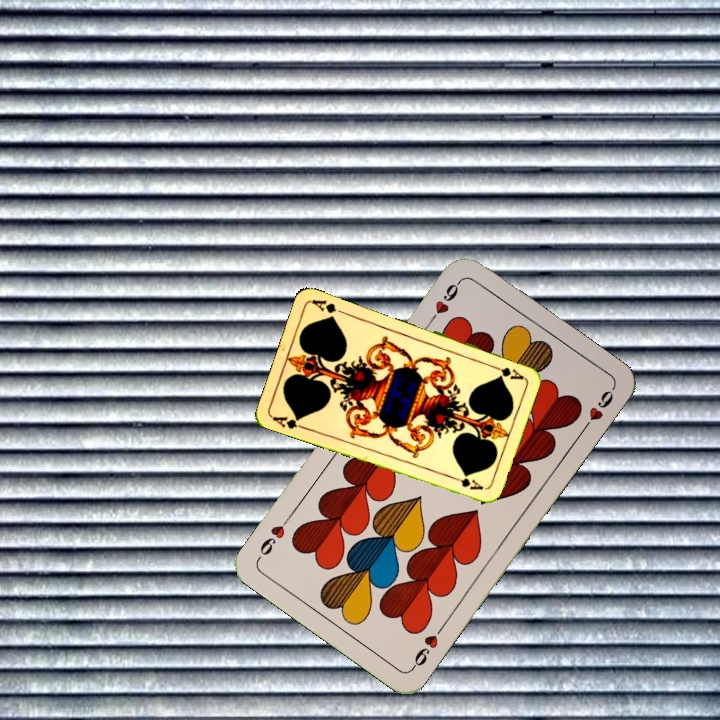GA: (486, 361, 526, 382), (268, 412, 309, 432)
H9: (424, 276, 464, 328), (407, 621, 447, 672)
